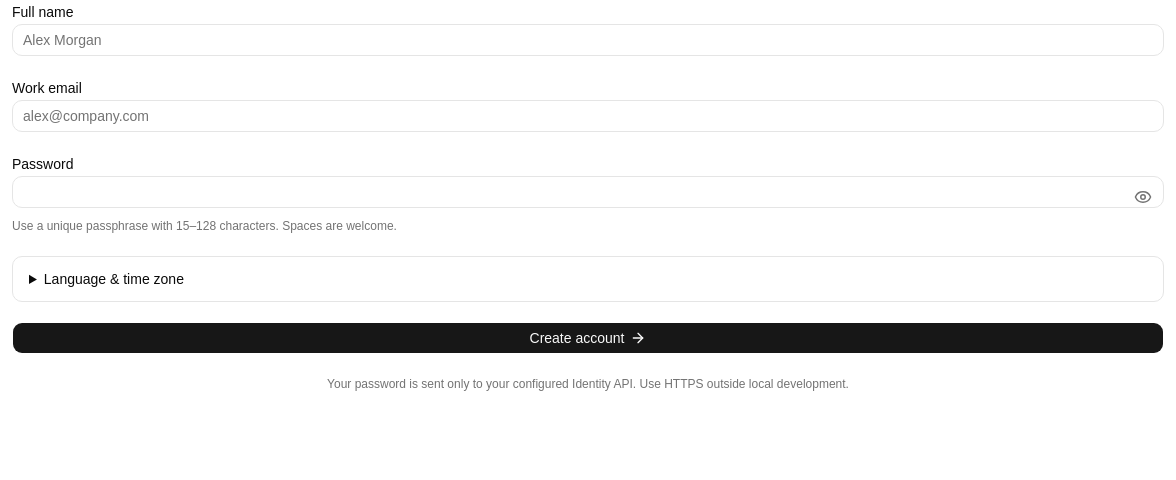
Test case: validates before sending requests
Click the button "Create account".
click(588, 338)  # box 12,322 -> 1164,354
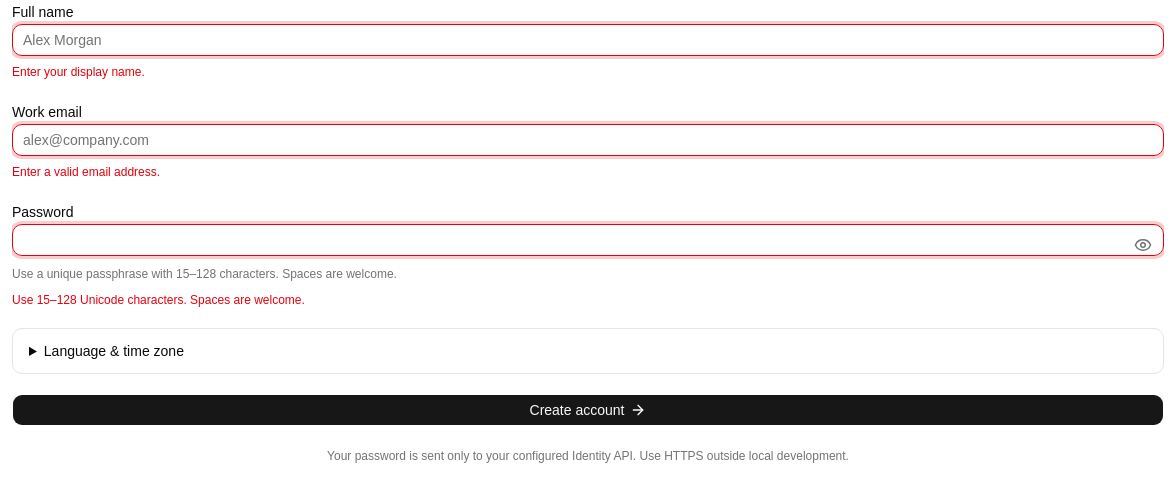
Check: the text "Enter your display name." is shown, box 12,65 -> 145,79
Check: the text "Enter a valid email address." is shown, box 12,165 -> 160,179
